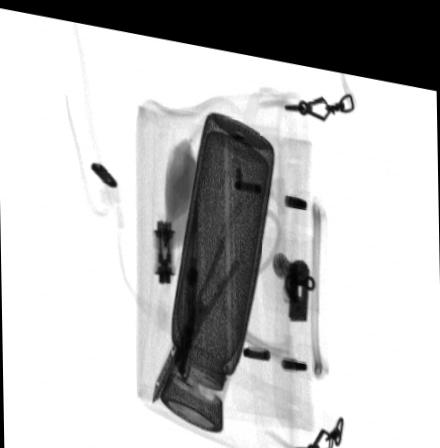Knife: (174, 184, 198, 377)
Scissors: (150, 146, 282, 397)
